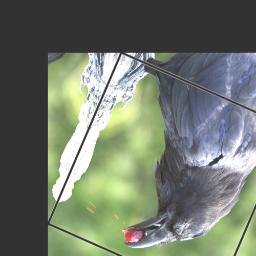Crow: (53, 55, 256, 256)
